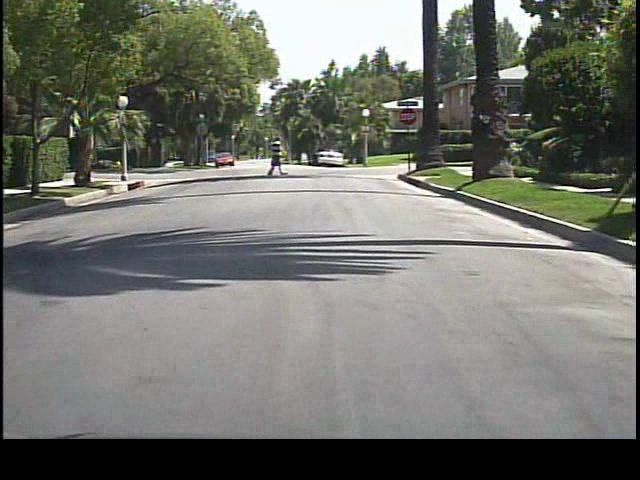person: (269, 136, 287, 176)
